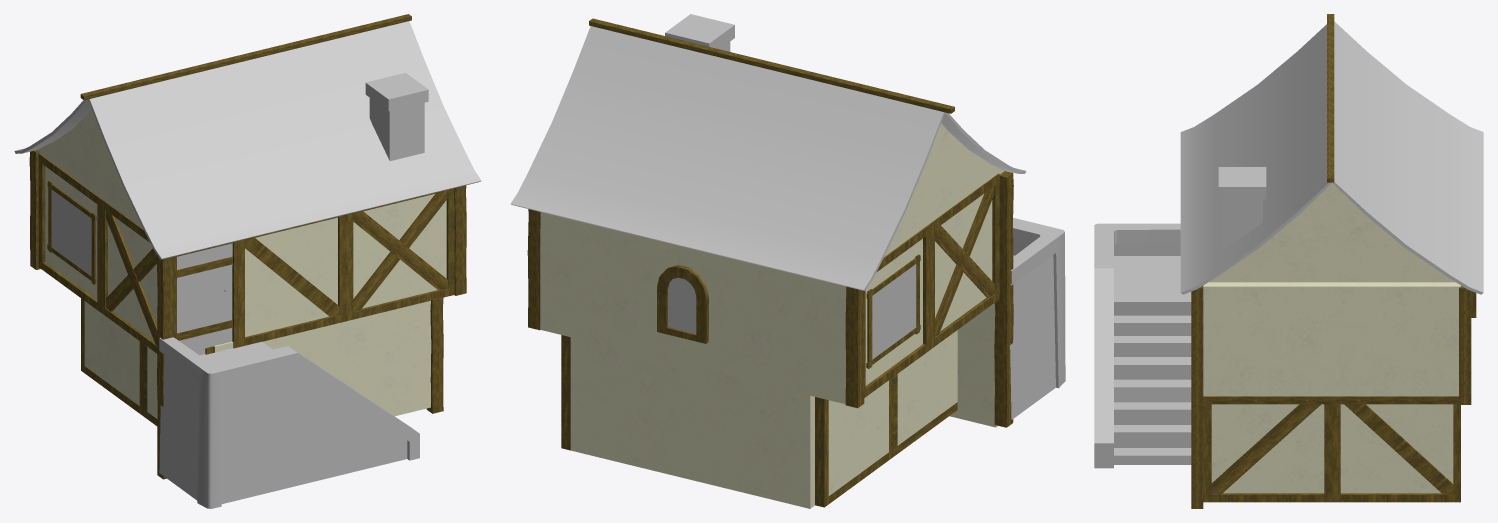
File: House three.fbx
The picture shows the model from 3 angles, left to right: view 1: azimuth 30°, elevation 25°; view 2: azimuth 150°, elevation 25°; view 3: azimuth 270°, elevation 25°; orthographic projection. The views are drawn at different scales.
Parts seen in each view (by area): view 1: Stairs_With_Stone2, Roof17, Roof18, Wall_Cross_Left2, Wall_Criss_Cross2, Wall_Plane9, Roof_Half3, Window_Plane2, Wall_Criss_Cross3, Door_Open_Door6, Wall_Cross_Left4, Chimney3 (+12 smaller); view 2: Roof17, Roof18, Wall_Plane_Long5, Roof_Half3, Wall_Plane7, Wall_Plane6, Stairs_With_Stone2, Wall_Criss_Cross3, Wall_Plane_Half5, Window_Plane2, Wall_Cross_Left4, Wall_Cross_Right3 (+12 smaller); view 3: Wall_Plane_Long6, Stairs_With_Stone2, Roof17, Roof18, Wall_Cross_Right2, Wall_Cross_Left3, Roof_End12, Roof_Half3, Chimney3, Wood_Plank_Long2, Wood_Pillar_Thick29, Wood_Pillar_Thick28 (+4 smaller).
Boxes of the visible parts, x1,y1,x2,y2 form: Stairs_With_Stone2: (159,337,419,508); Roof17: (14,68,286,259); Roof18: (215,38,412,228); Wall_Cross_Left2: (238,214,346,347); Wall_Criss_Cross2: (346,188,454,321); Wall_Plane9: (323,300,431,416); Roof_Half3: (341,21,481,198); Window_Plane2: (38,153,101,312); Wall_Criss_Cross3: (101,199,157,353); Door_Open_Door6: (177,243,232,355); Wall_Cross_Left4: (81,298,143,416); Chimney3: (365,73,428,160); Roof17: (725,78,1026,290); Roof18: (586,44,804,256); Wall_Plane_Long5: (612,229,846,404); Roof_Half3: (510,26,665,223); Wall_Plane7: (690,366,814,508); Wall_Plane6: (570,337,690,479); Stairs_With_Stone2: (1010,217,1065,419); Wall_Criss_Cross3: (929,173,999,349); Wall_Plane_Half5: (540,212,611,347); Window_Plane2: (864,224,930,397); Wall_Cross_Left4: (815,377,893,507); Wall_Cross_Right3: (893,330,957,456); Wall_Plane_Long6: (1203,282,1460,396); Stairs_With_Stone2: (1094,223,1191,468); Roof17: (1180,21,1483,194); Roof18: (1180,84,1483,258); Wall_Cross_Right2: (1203,404,1332,502); Wall_Cross_Left3: (1332,404,1460,502); Roof_End12: (1209,183,1455,282); Roof_Half3: (1180,148,1483,294); Chimney3: (1218,167,1266,250); Wood_Plank_Long2: (1203,396,1458,404); Wood_Pillar_Thick29: (1459,285,1471,404); Wood_Pillar_Thick28: (1191,286,1203,404).
Bounding box in the file's own units: 945 × 936 × 945.
